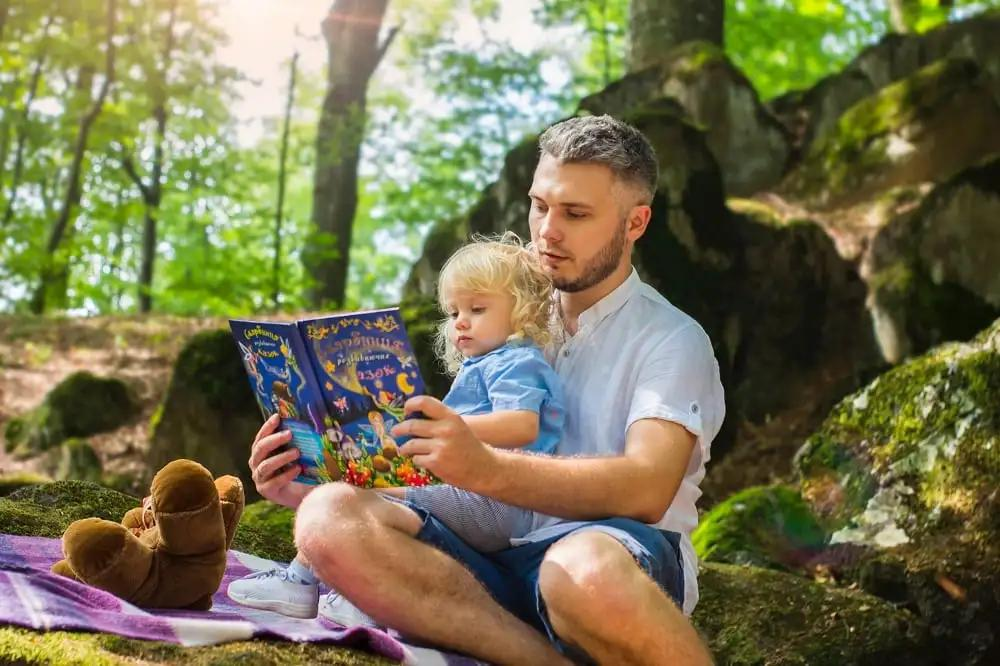child: (414, 237, 556, 535)
